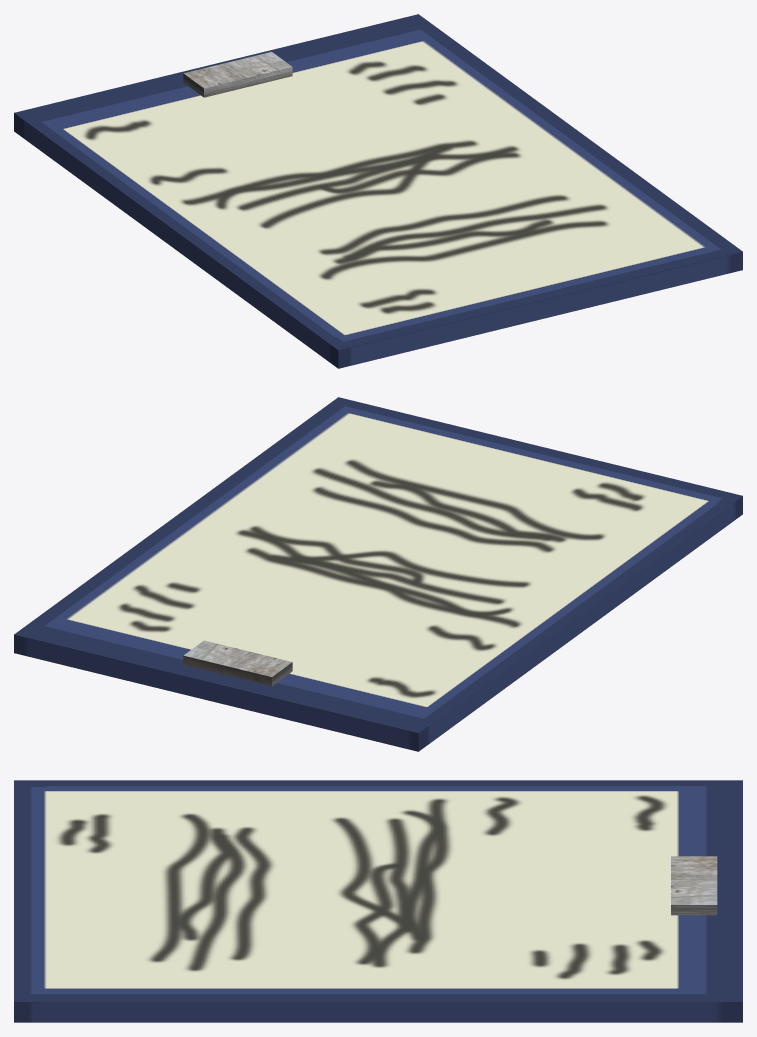
The model's file is clipboard.fbx.
3 views of the same model, one above another, from view 1: azimuth 30°, elevation 25°; view 2: azimuth 150°, elevation 25°; view 3: azimuth 270°, elevation 25° (orthographic). The views are drawn at different scales.
Visible parts, largest first — view 1: clipboard; view 2: clipboard; view 3: clipboard.
Part boxes in pixels (x1,y1,x2,y2): clipboard: (14, 14, 742, 368); clipboard: (14, 397, 742, 751); clipboard: (14, 780, 742, 1022).
Bounding box in the file's own units: 45.72 × 3 × 63.5.
